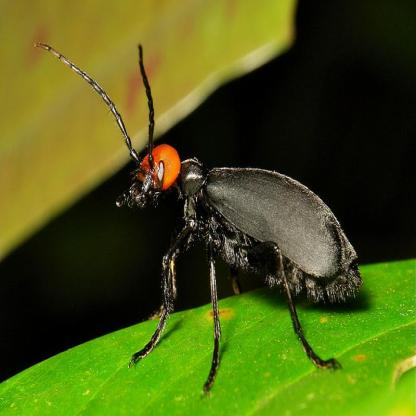beetle: (76, 72, 364, 377)
